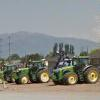Tractor: (16, 33, 100, 100)
